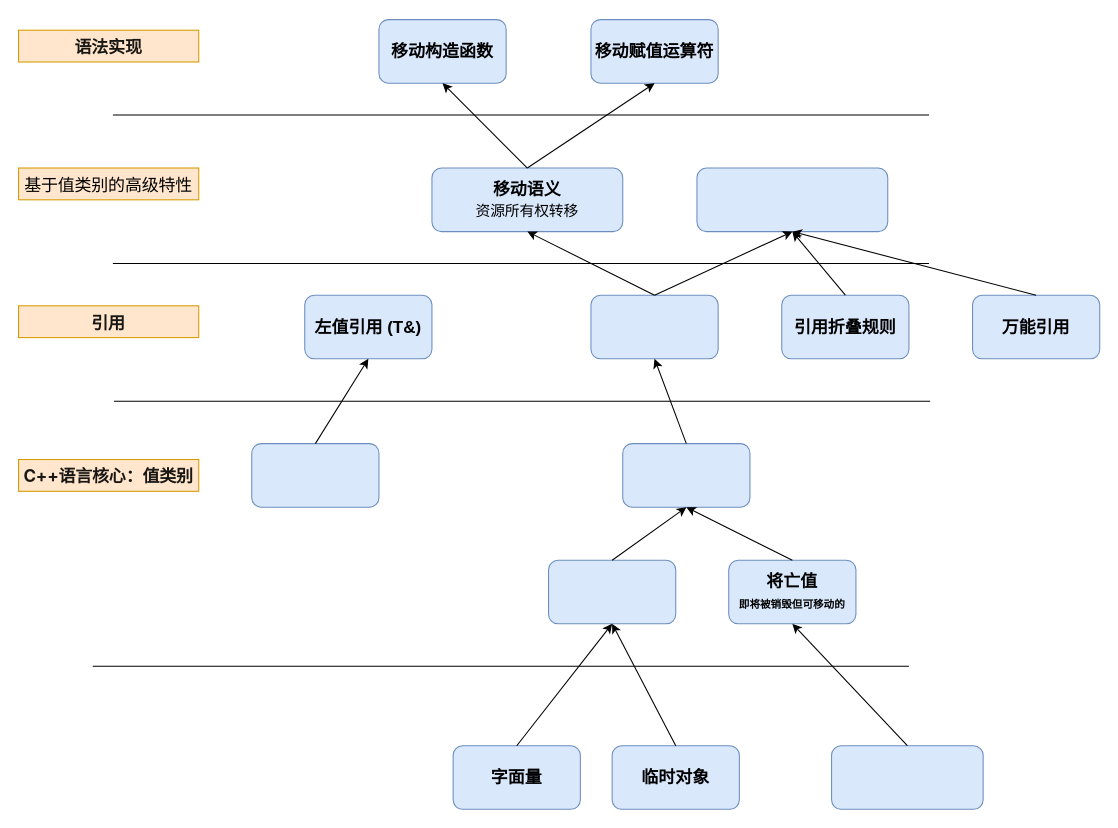
Some shapes in this 1118 by 828 pixel diagram are drawn without their labels. Each missing label, with the centre of its shape:
"右值" goes at (686,475).
"右值引用 (T&&)" goes at (654,326).
"完美转发 参数性质保持" goes at (792,199).
"左值" goes at (315,475).
"纯右值 临时的" goes at (611,591).
"通过 std::move 得到的对象" goes at (907,777).
